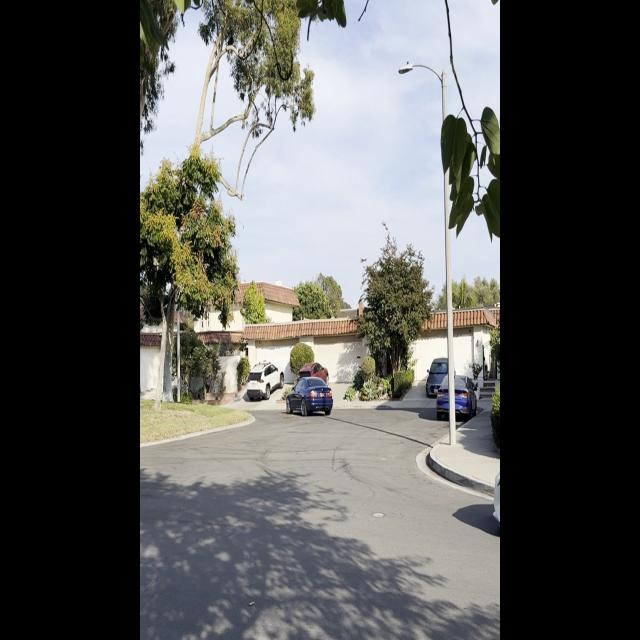Carbeetle: (284, 369, 336, 422)
Civilian: (436, 374, 478, 422), (427, 357, 463, 397), (245, 366, 283, 402), (293, 362, 327, 399)
